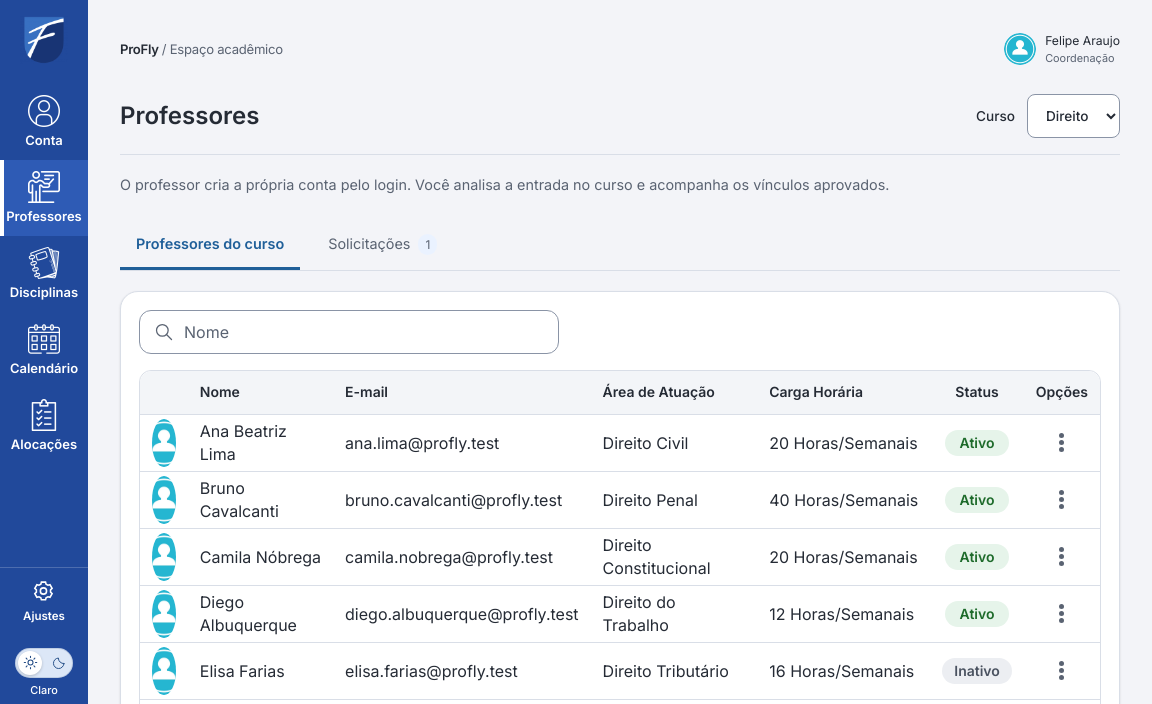
Test: cadastro proprio e analise independente › exibe o novo professor somente nas solicitacoes ate a coordenacao aprovar seu curso
Check: the text "Ana Beatriz Lima" is shown, box [188, 415, 333, 472]
Check: the text "Professor de Teste" is not shown
Click the tab "Solicitações 1" at point(383, 246), box [312, 222, 453, 270]
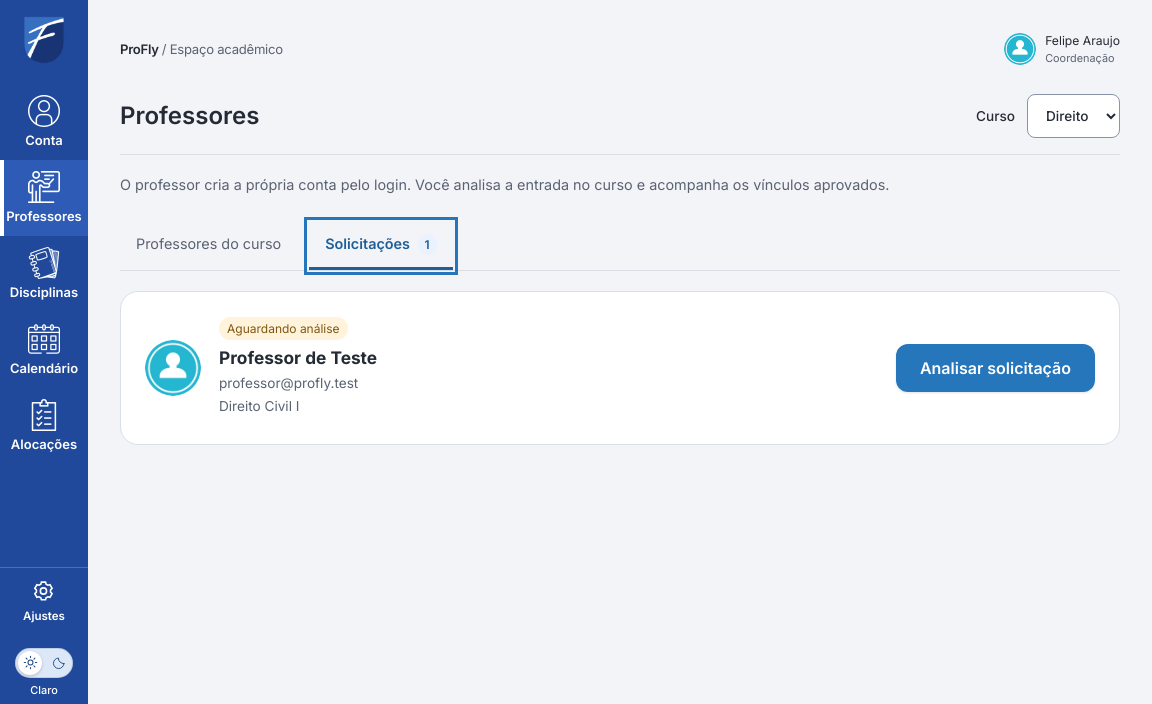
Click the button "Analisar solicitação" at point(995, 368), box [896, 344, 1095, 392]
(page scrolled)
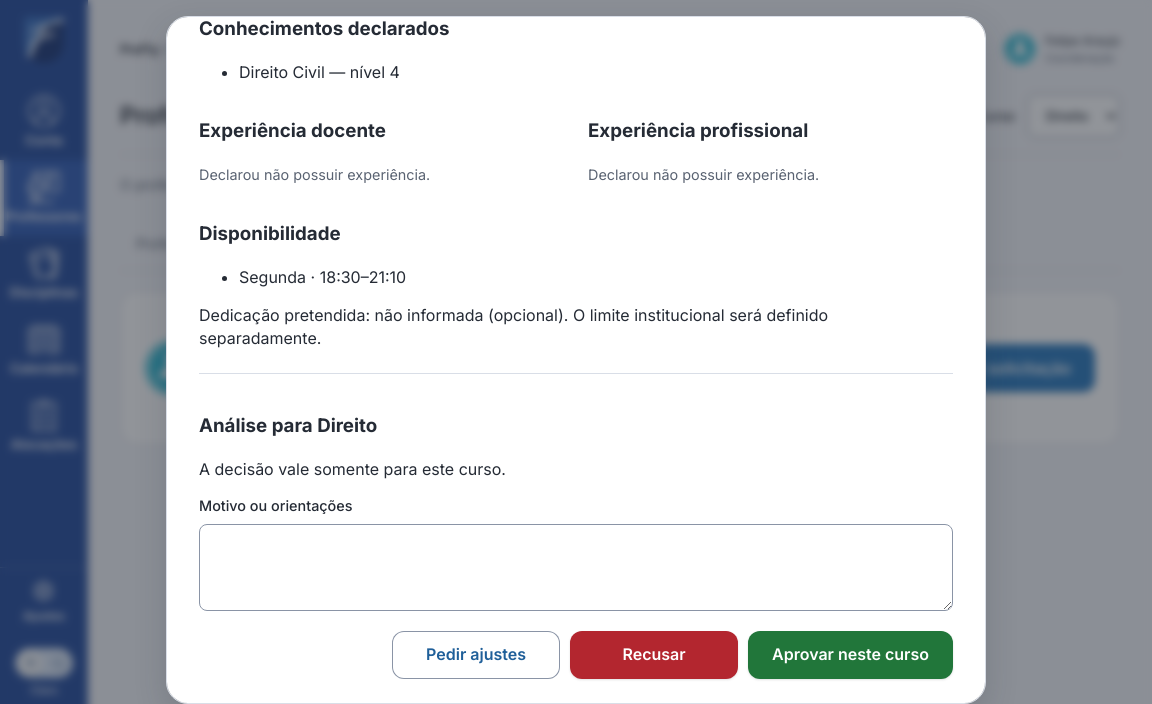
Check: the dialog shows "não informada (opcional)", box [374, 305, 564, 325]
Type "Formação conferida para Direito" into the text box labelled "Motivo ou orientações" at point(576, 567), box [199, 524, 953, 610]
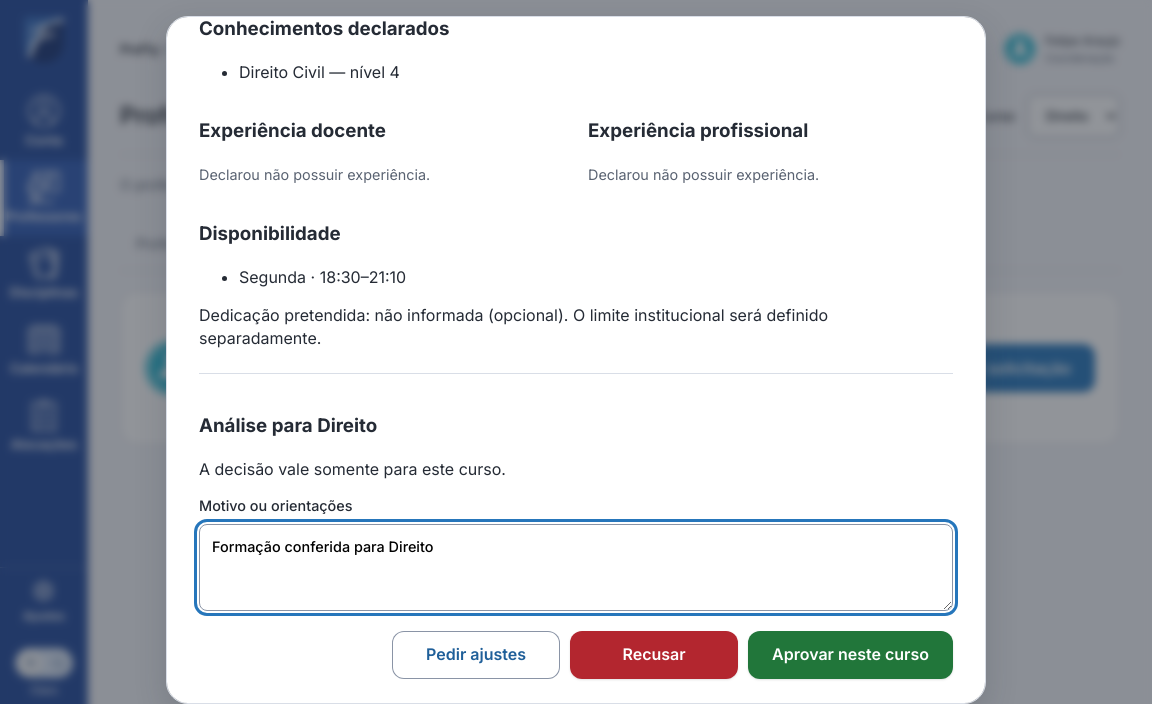
Click the button "Aprovar neste curso" at point(851, 654), box [748, 630, 953, 678]
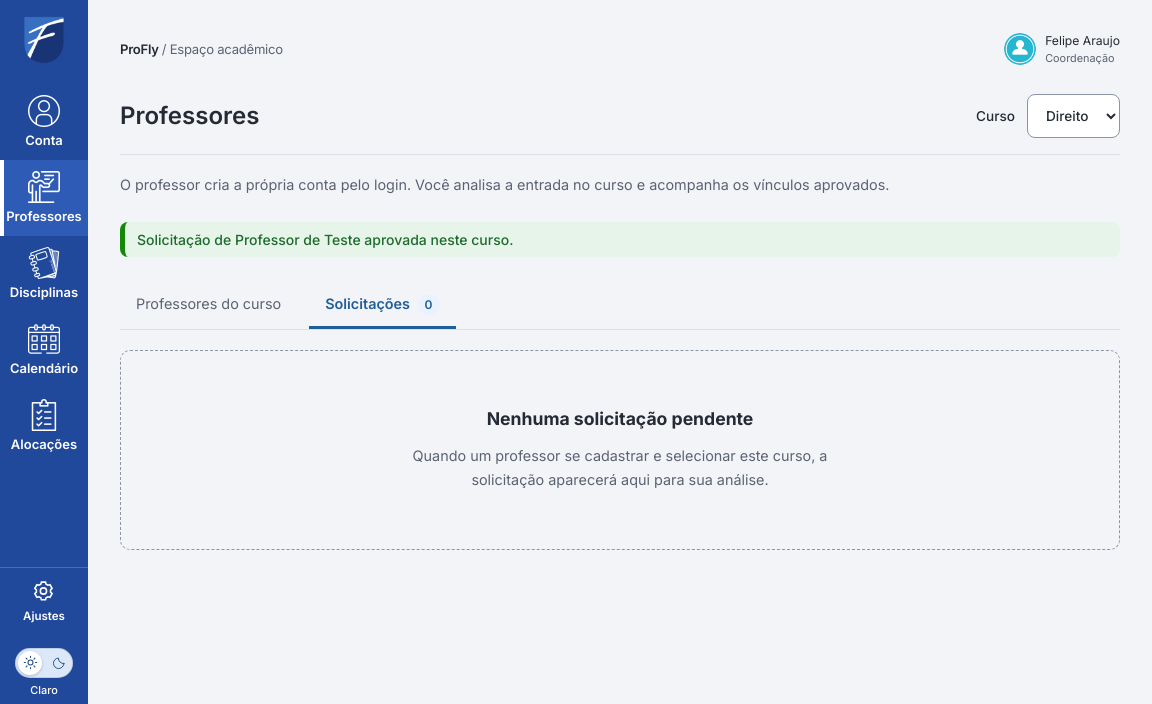
Click the tab "Professores do curso" at point(209, 305), box [120, 281, 297, 329]
(page scrolled)
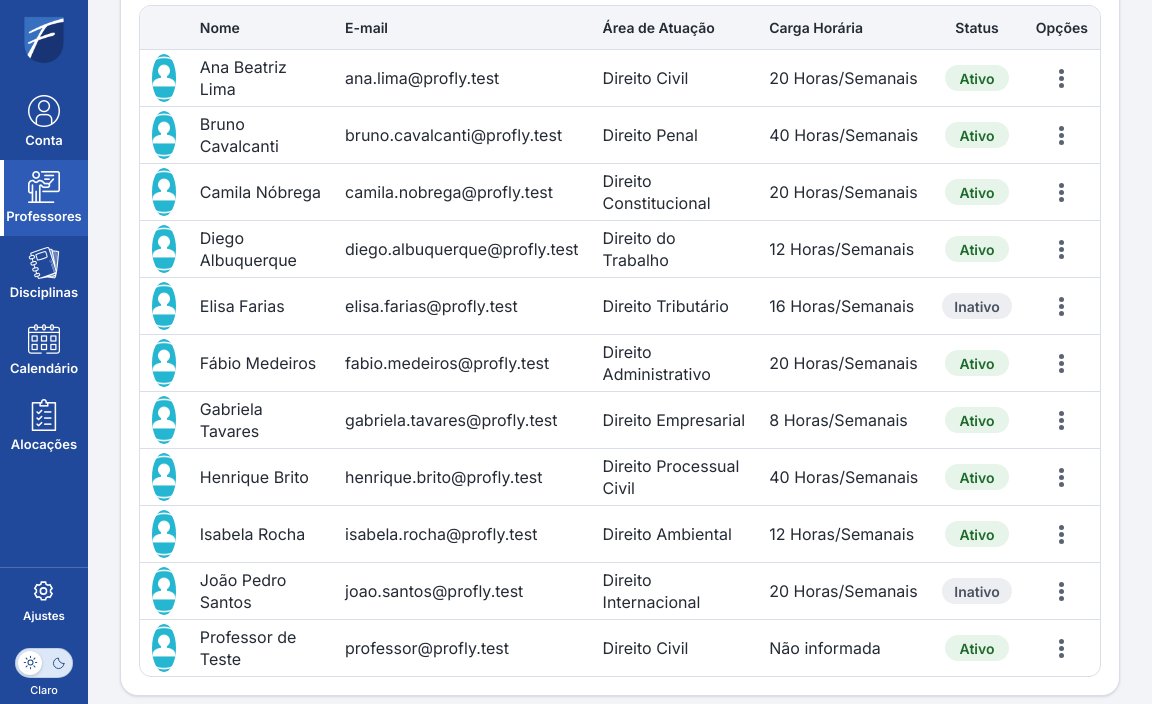
Check: the text "Professor de Teste" is shown, box [188, 620, 333, 676]
Check: the text "Não informada" is shown, box [757, 620, 930, 676]
